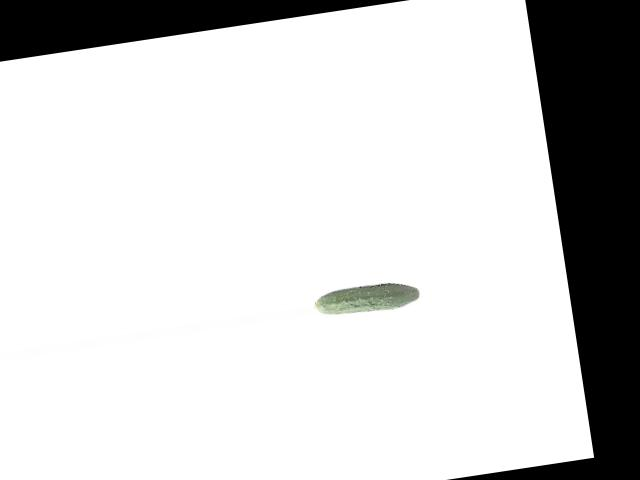cucumber: (313, 278, 421, 319)
